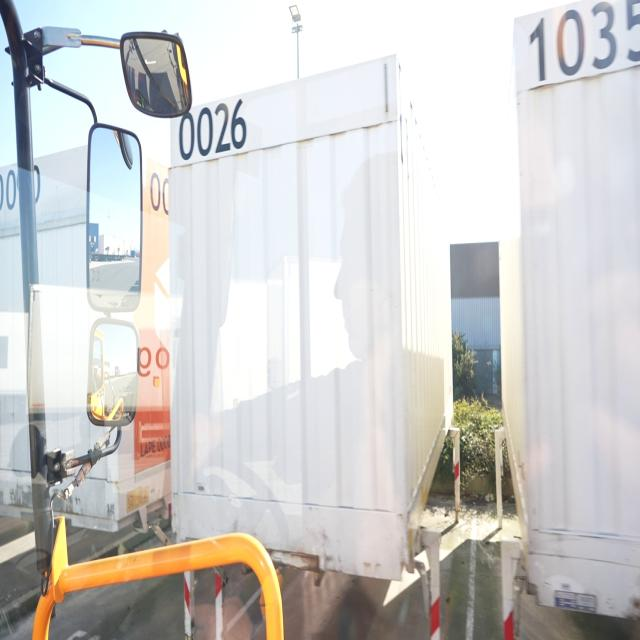Code: (174, 92, 254, 166)
